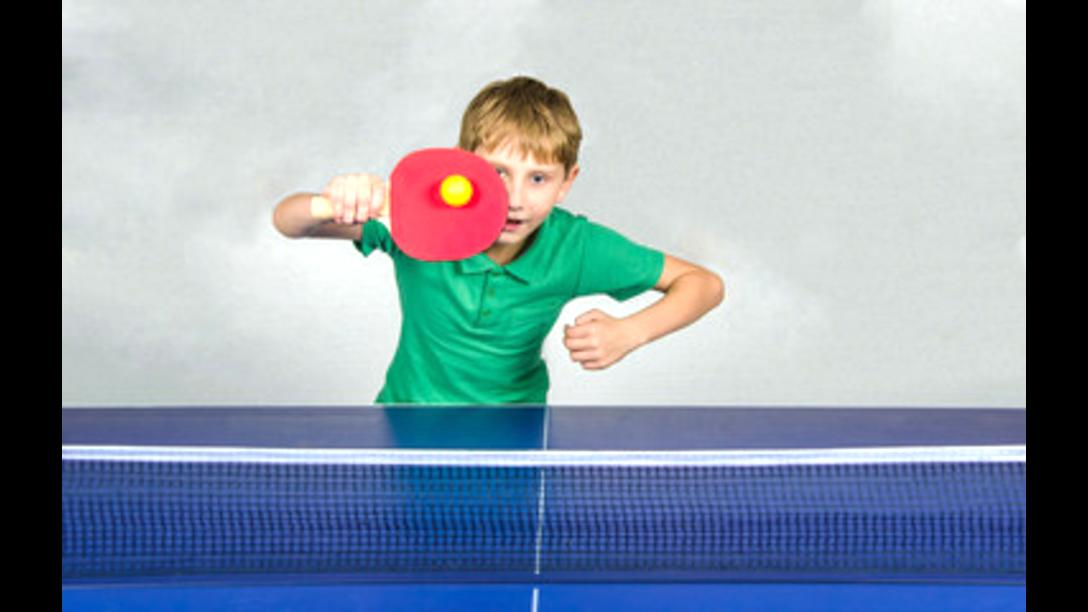Table-Tennis-Ball: (442, 176, 470, 205)
